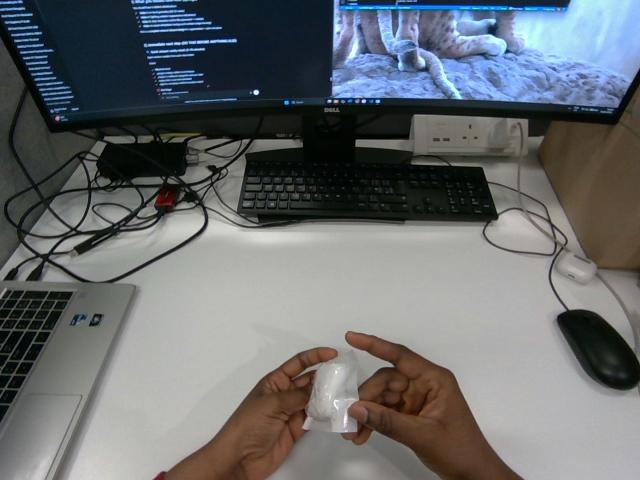gauze: (303, 351, 358, 432)
